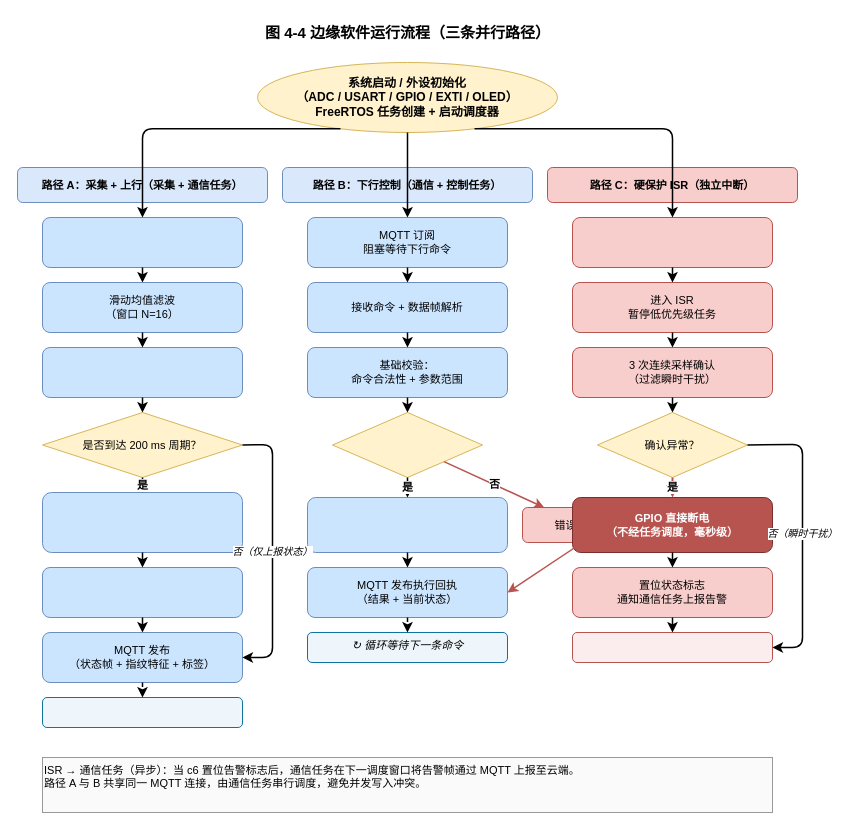
This 855x830 diagram has some shape labels left out. Here are the shapes that lost their labels. From the top down, the centre of each, then its label:
At pixel 142 242: "ADC 采样 （10 ms 周期，DMA）".
At pixel 672 242: "EXTI 外部中断触发 （过载 / 漏电信号沿）".
At pixel 142 372: "计算 V / I / P + 累计电量 + 校准补偿".
At pixel 407 445: "校验通过？".
At pixel 142 522: "电力指纹特征提取 有效值 / 峰值 / 峰均比 / 过零点 最大突变 / 简化谐波".
At pixel 407 524: "驱动继电器 （开关 / 阈值更新 / 定时配置）".
At pixel 142 592: "阈值初筛 → 正常 / 可疑 / 异常".
At pixel 672 647: "ISR 退出，恢复任务调度".
At pixel 142 712: "↻ 循环回到 ADC 采样".
